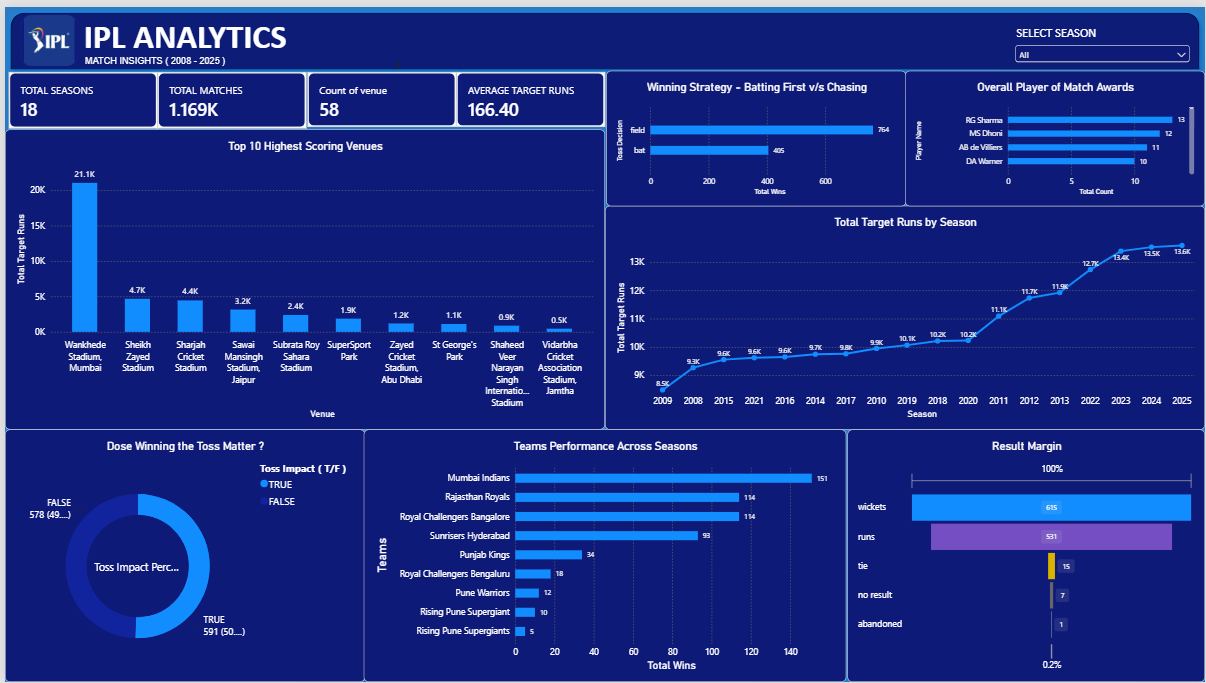

The page's visual inventory and layout, read from the dashboard file:
{"tool":"powerbi","page":{"name":"Dashboard","canvas":[1920,1080],"ordinal":0},"visuals":[{"type":"lineChart","title":"Total Target Runs by Season","fields":{"Category":["ipl.Match_Year"],"Y":["Sum(ipl.target_runs)"]},"box":[960,318,960,358],"z":0},{"type":"shape","box":[0,0,1920,109],"z":1000},{"type":"slicer","title":"   SELECT SEASON","fields":{"Values":["ipl.Match_Year"]},"box":[1596.1,45.2,304,52.5],"z":2000},{"type":"textbox","title":"IPL ANALYTICS","box":[125.7,14.3,1008,95],"z":3000},{"type":"clusteredColumnChart","title":"Top 10 Highest Scoring Venues","fields":{"Category":["ipl.venue"],"Y":["Sum(ipl.target_runs)"]},"box":[0,196,960,480],"z":4000},{"type":"donutChart","title":"Dose Winning the Toss Matter ?","fields":{"Category":["ipl.Toss_Impact"],"Y":["CountNonNull(ipl.match_number)"]},"box":[0,676,576,404],"z":5000},{"type":"barChart","title":"Teams Performance Across Seasons","fields":{"Category":["ipl.winner"],"Y":["CountNonNull(ipl.match_number)"]},"box":[574,676,772,404],"z":6000},{"type":"clusteredColumnChart","title":"Result Margin","fields":{"Category":["ipl.result"],"Y":["CountNonNull(ipl.result)"]},"box":[1348,676,572,404],"z":7000},{"type":"image","box":[23.5,12.9,93.5,82.9],"z":8000},{"type":"textbox","box":[100,100,300,300],"z":9000},{"type":"textbox","title":"MATCH INSIGHTS ( 2008 - 2025 )","box":[128,77.8,331.4,30],"z":10000},{"type":"textbox","box":[100,100,300,300],"z":10001},{"type":"textbox","title":"SELECT SEASON","box":[1617.8,29,266,25.3],"z":10002},{"type":"cardVisual","fields":{"Data":["Avg(ipl.target_runs)"]},"box":[722,104,238,88],"z":10006},{"type":"cardVisual","fields":{"Data":["CountNonNull(ipl.match_number)"]},"box":[244,104,238,90],"z":10007},{"type":"cardVisual","fields":{"Data":["Count(ipl.season)"]},"box":[5,104,238,90],"z":10008},{"type":"cardVisual","fields":{"Data":["Count(ipl.venue)"]},"box":[483,104,238,88],"z":10009},{"type":"barChart","title":"Winning Strategy - Batting First v/s Chasing","fields":{"Category":["ipl.toss_decision"],"Y":["CountNonNull(ipl.winner)"]},"box":[961,101,480,217],"z":10010},{"type":"barChart","title":"Overall Player of Match Awards","fields":{"Category":["ipl.player_of_match"],"Y":["Count(ipl.season)"]},"box":[1440,102.2,480,217],"z":10011}]}

Visuals, with their boxes in screenshot pixels (x1, y1, x2, y2), scaled from the page's 1920x1080 canvas onto the 1206x683 screenshot:
"Total Target Runs by Season" lineChart: locate(603, 201, 1205, 428)
shape: locate(0, 0, 1205, 69)
"   SELECT SEASON" slicer: locate(1003, 29, 1194, 62)
"IPL ANALYTICS" textbox: locate(79, 9, 712, 69)
"Top 10 Highest Scoring Venues" clusteredColumnChart: locate(0, 124, 603, 428)
"Dose Winning the Toss Matter ?" donutChart: locate(0, 428, 362, 682)
"Teams Performance Across Seasons" barChart: locate(361, 428, 845, 682)
"Result Margin" clusteredColumnChart: locate(847, 428, 1205, 682)
image: locate(15, 8, 73, 61)
textbox: locate(63, 63, 251, 253)
"MATCH INSIGHTS ( 2008 - 2025 )" textbox: locate(80, 49, 289, 68)
textbox: locate(63, 63, 251, 253)
"SELECT SEASON" textbox: locate(1016, 18, 1183, 34)
cardVisual - Avg(ipl.target_runs): locate(454, 66, 603, 121)
cardVisual - CountNonNull(ipl.match_number): locate(153, 66, 303, 123)
cardVisual - Count(ipl.season): locate(3, 66, 153, 123)
cardVisual - Count(ipl.venue): locate(303, 66, 453, 121)
"Winning Strategy - Batting First v/s Chasing" barChart: locate(604, 64, 905, 201)
"Overall Player of Match Awards" barChart: locate(905, 65, 1205, 202)
